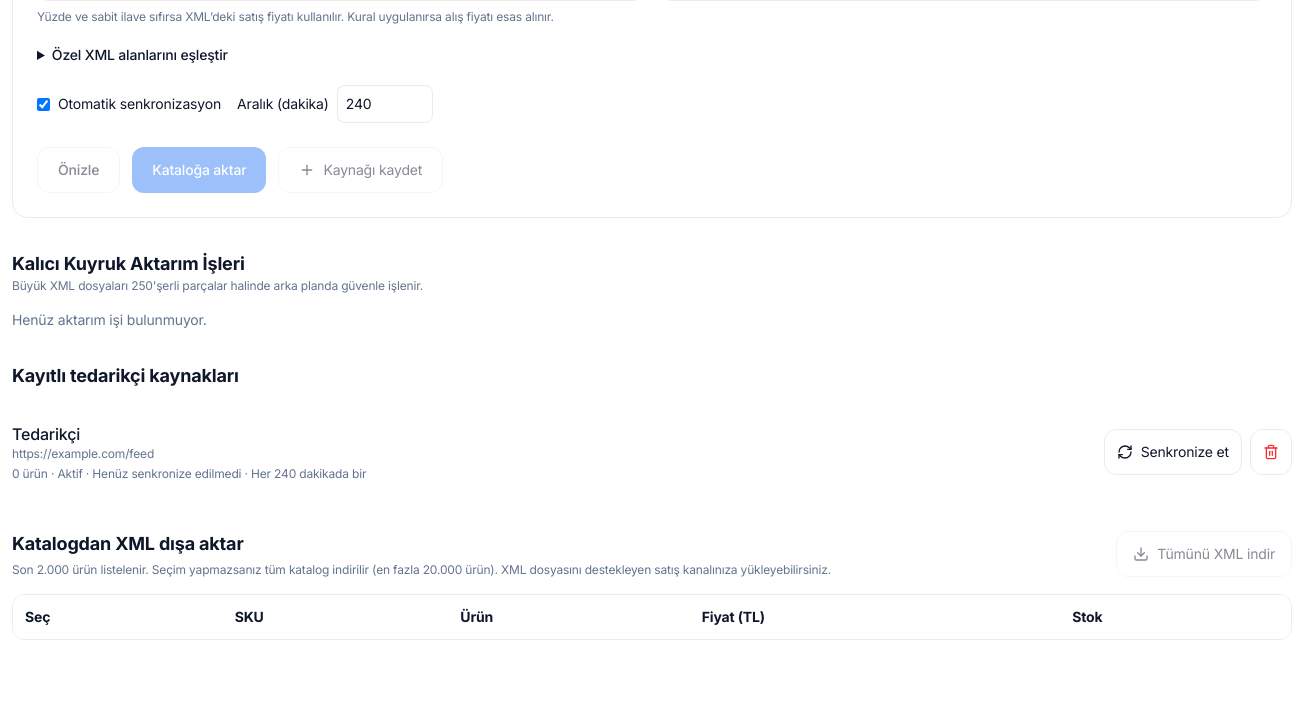
Scenario: XML import workspace › uses the real saved-source sync action and displays the returned counts
(page scrolled)
Click the button "Senkronize et": (1173,452) x1=1104 y1=429 x2=1242 y2=475
(page scrolled)
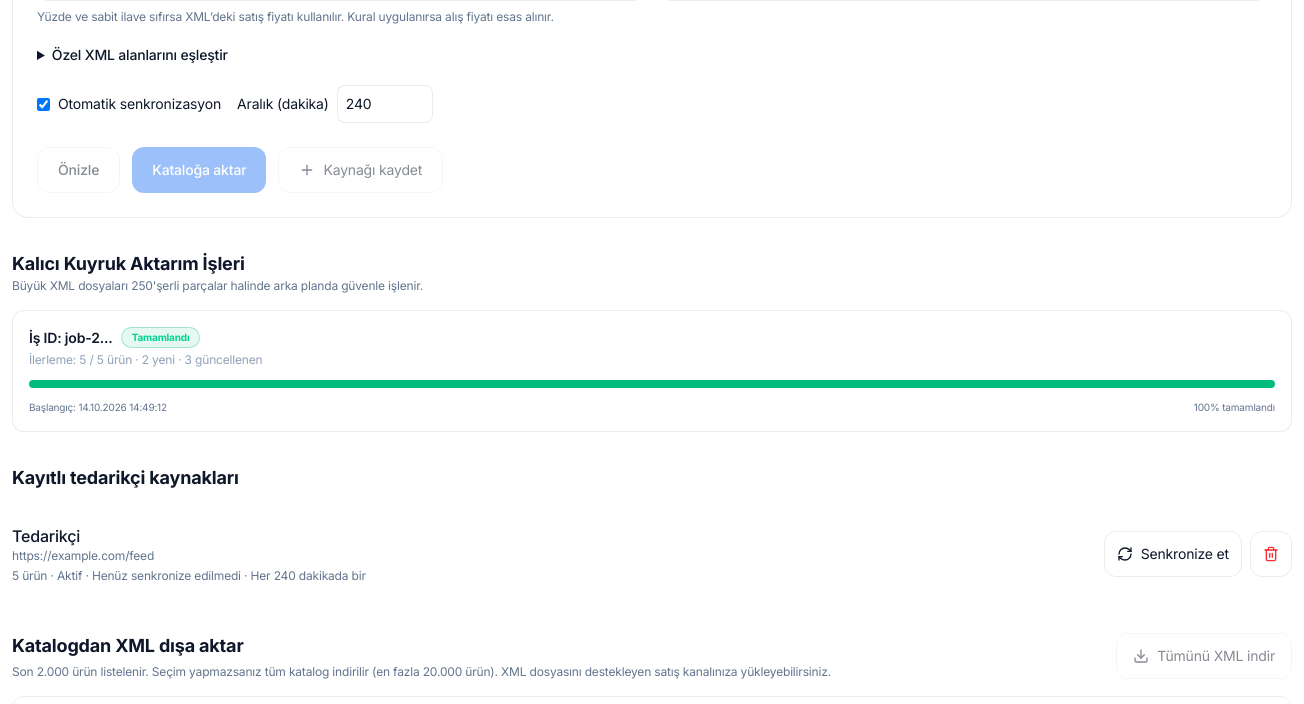
Check: the text "İlerleme: 5 / 5 ürün · 2 yeni · 3 güncellenen" is shown, box x1=29 y1=352 x2=262 y2=368
